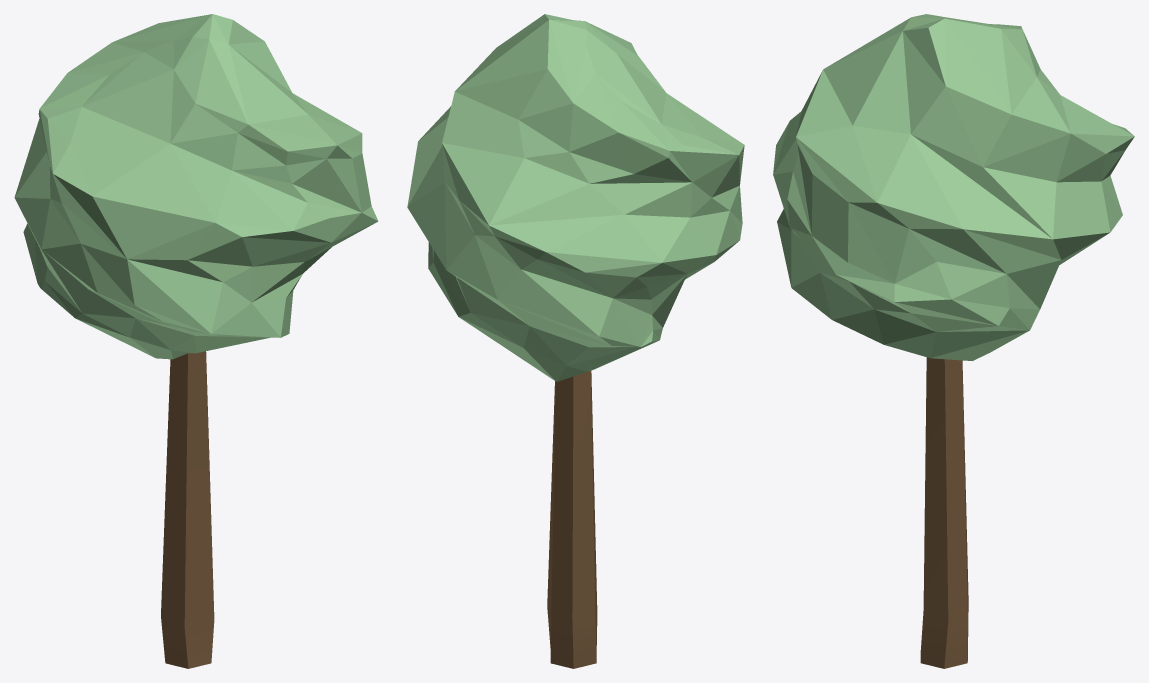
Rendered from CC_Tree.fbx.
The picture shows the model from 3 angles, left to right: view 1: azimuth 30°, elevation 25°; view 2: azimuth 150°, elevation 25°; view 3: azimuth 270°, elevation 25°; orthographic projection. The views are drawn at different scales.
Parts seen in each view (by area): view 1: pCube1; view 2: pCube1; view 3: pCube1.
Boxes of the visible parts, bbox=[...] form: pCube1: bbox=[14, 14, 378, 668]; pCube1: bbox=[407, 14, 744, 668]; pCube1: bbox=[773, 14, 1134, 668].
Bounding box in the file's own units: 3.8 × 7.54 × 3.8.
